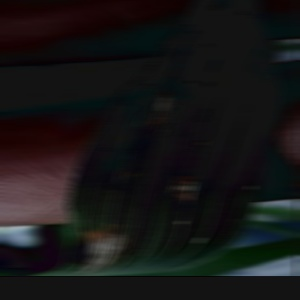Brown_Spot: (132, 54, 208, 146), (224, 40, 284, 105), (72, 222, 141, 276), (156, 162, 206, 211), (104, 148, 146, 192)
